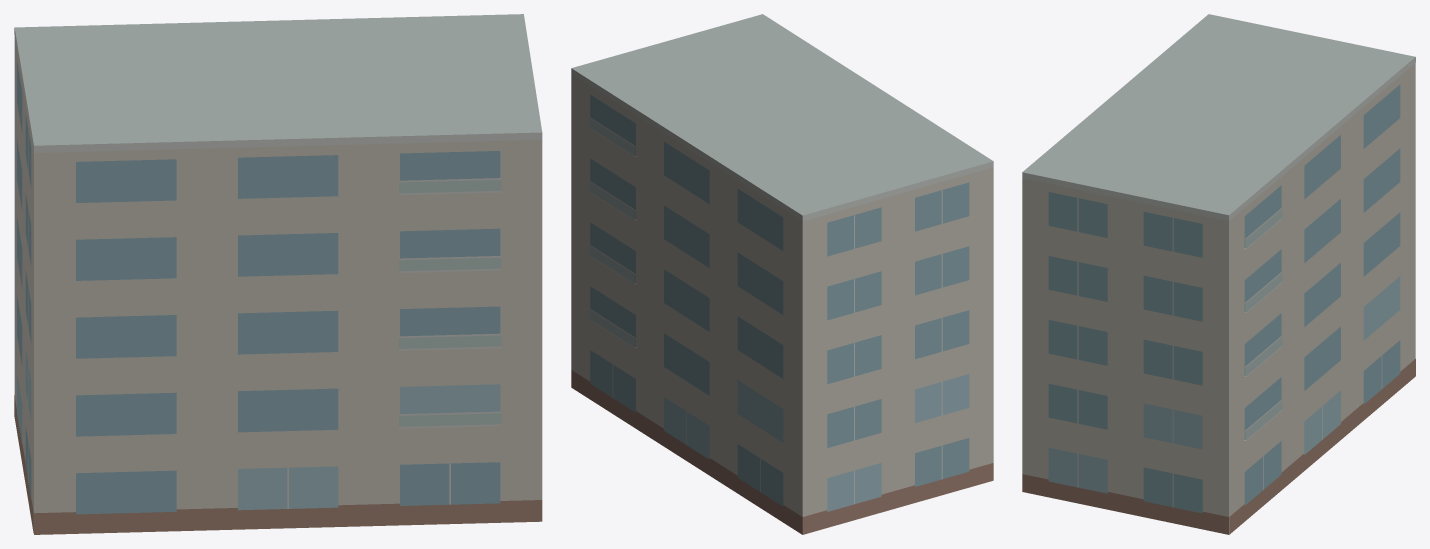
File: survey-upis-32943192.glb
3 renders of one model, left to right at view 1: azimuth 30°, elevation 25°; view 2: azimuth 150°, elevation 25°; view 3: azimuth 270°, elevation 25°, orthographic. The views are drawn at different scales.
Visible parts, largest first — view 1: survey-upis-32943192.tmp; view 2: survey-upis-32943192.tmp; view 3: survey-upis-32943192.tmp.
Part boxes in pixels (x1,y1,x2,y2): survey-upis-32943192.tmp: [14, 14, 542, 534]; survey-upis-32943192.tmp: [571, 14, 993, 534]; survey-upis-32943192.tmp: [1022, 14, 1415, 534].
Bounding box in the file's own units: 17.84 × 13.2 × 14.74.
